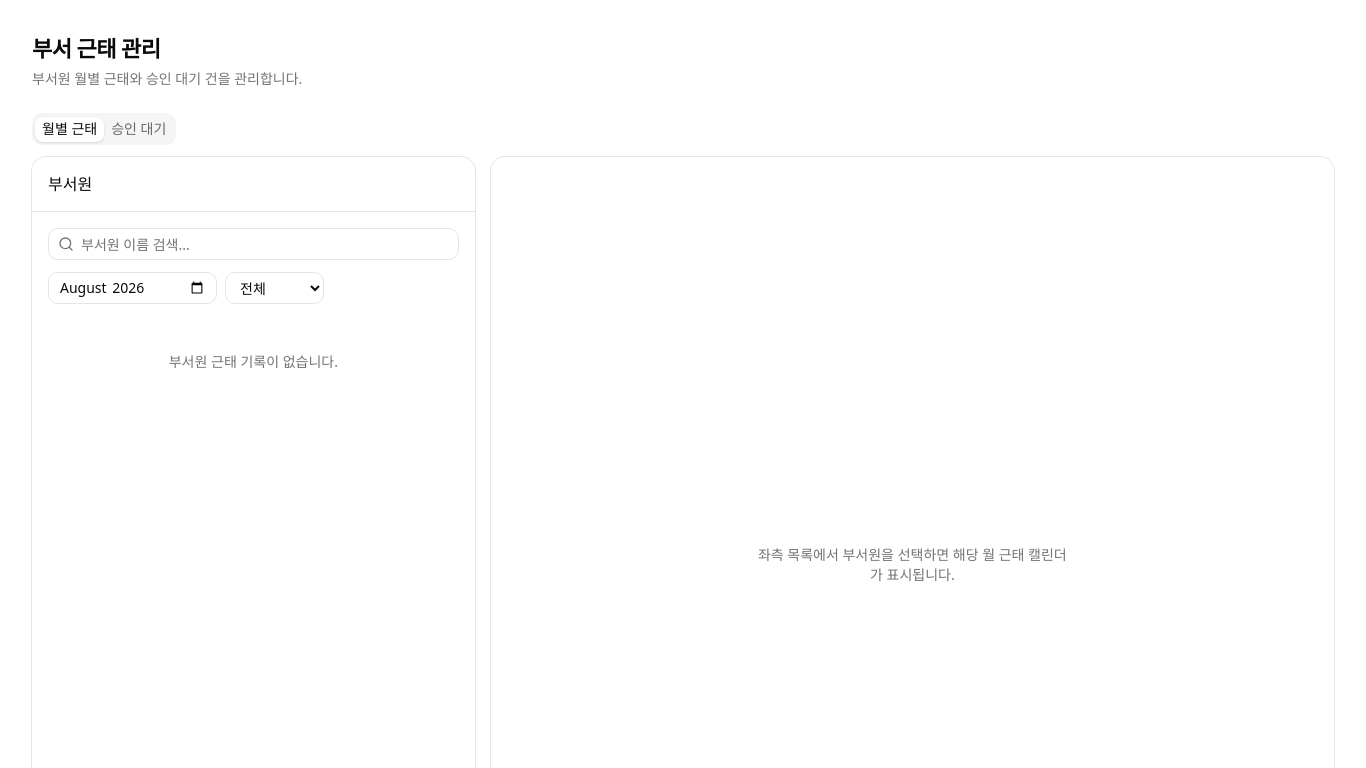
Test: DeptAttendancePage (F306) - 승인 대기 탭 › 탭② 클릭 시 승인 대기 목록+페이징이 정상 렌더된다
This screenshot has width=1366, height=768.
Check: the text "부서원 근태 기록이 없습니다." is shown, box [169,352,338,371]
Click the tab "승인 대기" at (139, 129), box [104,116,173,142]
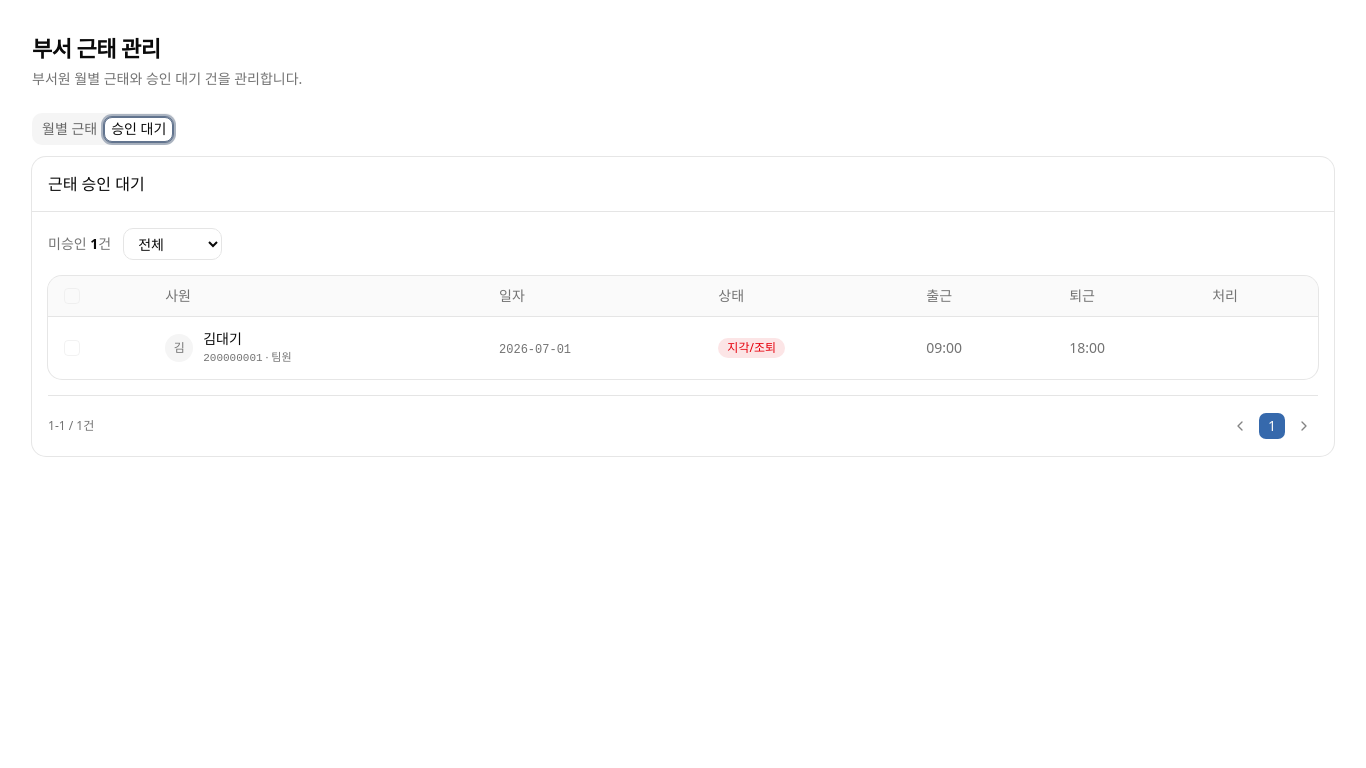
Check: the text "김대기" is shown, box [203,329,242,348]
Check: the text "지각/조퇴" is shown, box [718,338,785,358]
